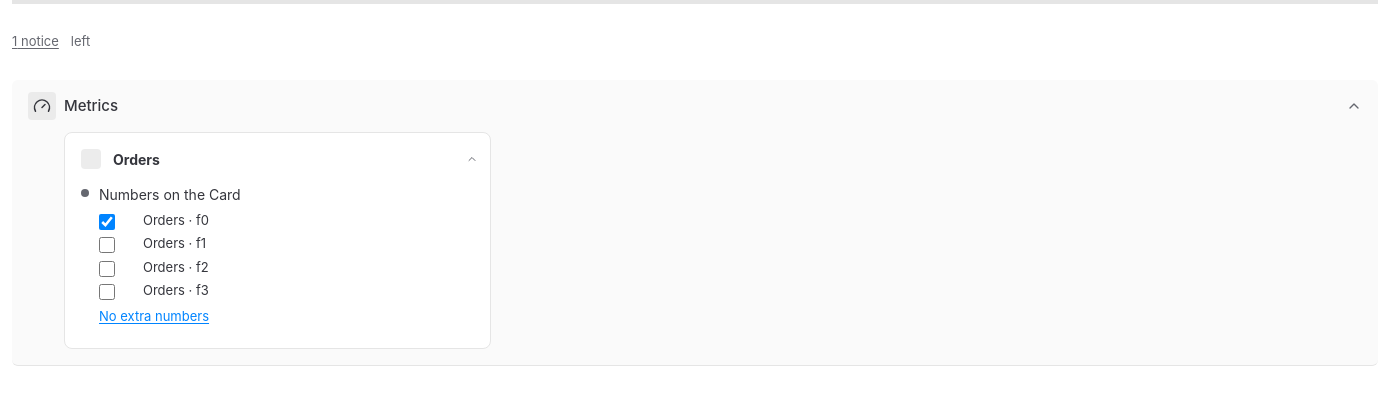
0.5.4 fixes › unchecking a staged box back to the saved state removes the pick
Click the checkbox labelled "Orders · f2". click: (107, 268)
box: [99,260,115,276]
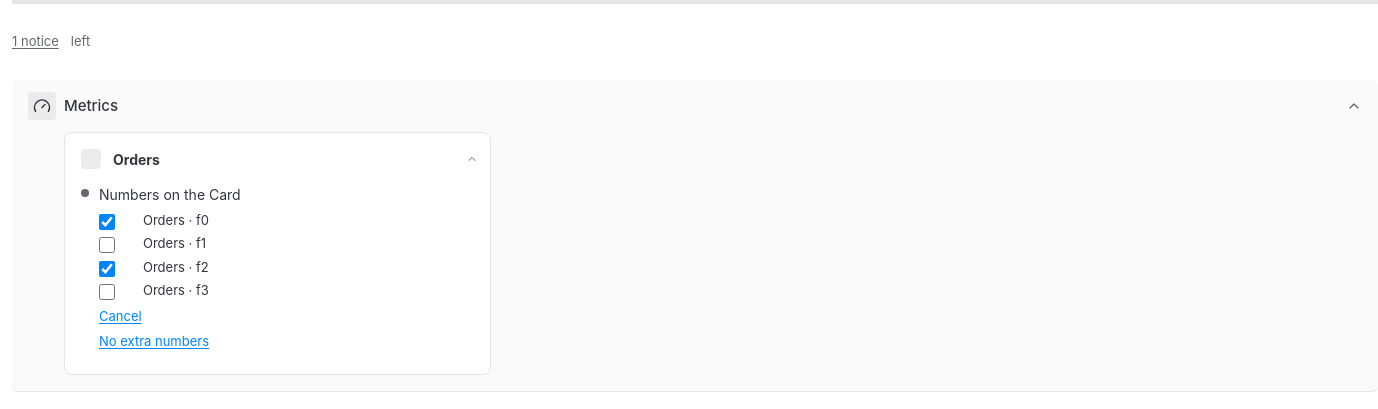
Result: the button "Cancel" is shown at [99,306,142,326]
Click the checkbox labelled "Orders · f2". click: (107, 268)
box: [99,260,115,276]
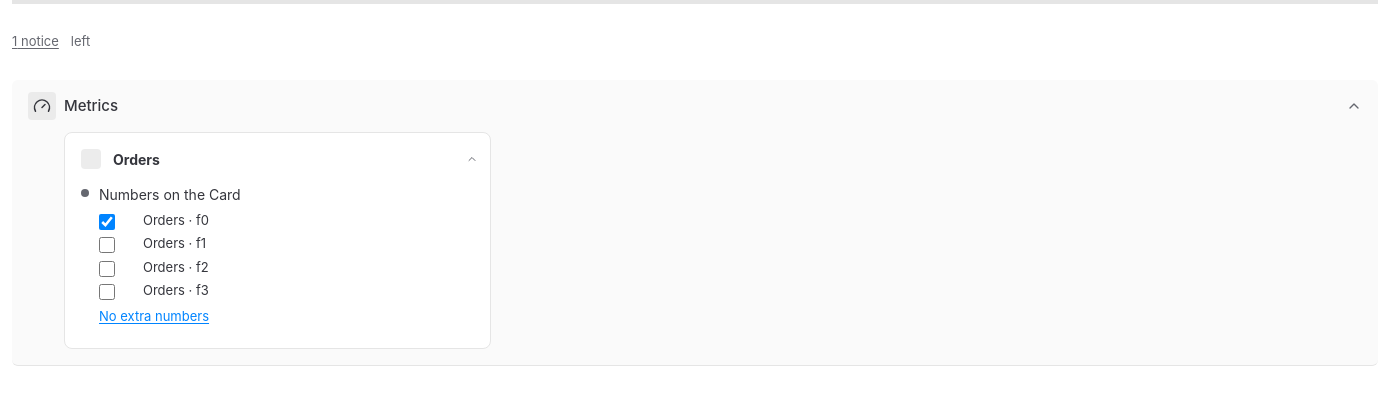
Result: the button "Cancel" is gone
